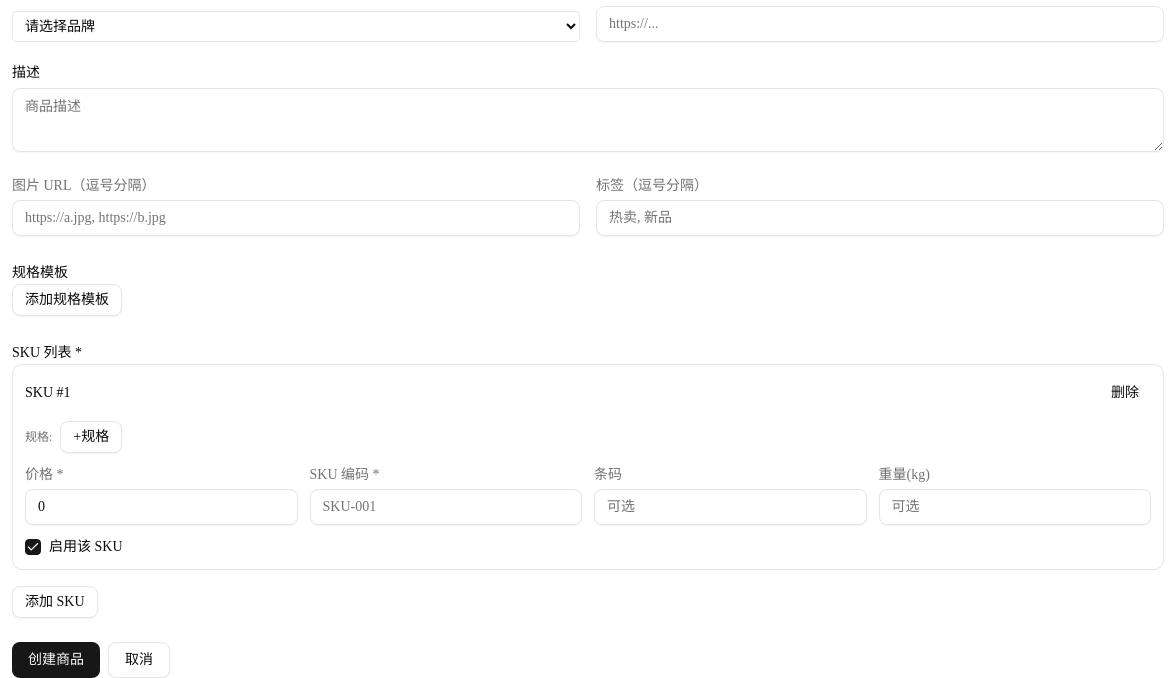
SpuForm create › shows validation errors on empty submit
(page scrolled)
Click the button "创建商品": (56, 660) [12,642,100,677]
(page scrolled)
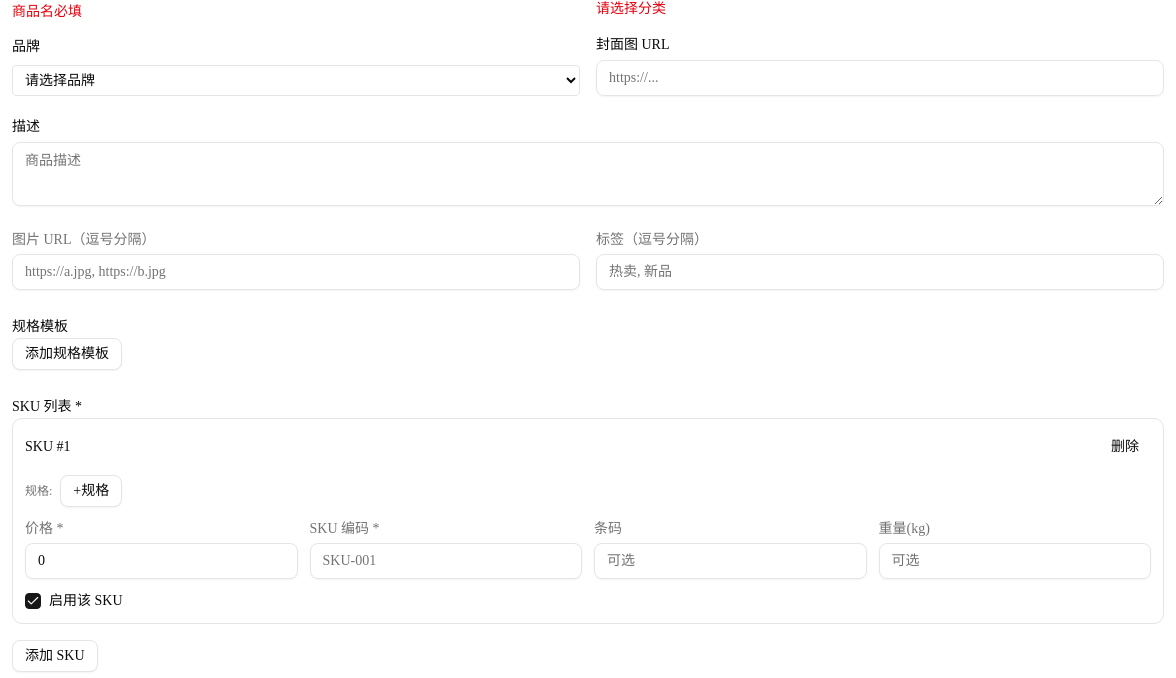
Expected: the text "商品名必填" is shown, [12,4,82,19]
